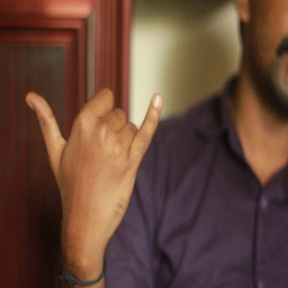J: (23, 69, 165, 212)
